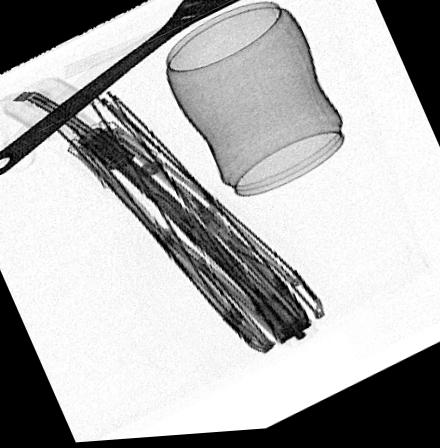Wrench: (0, 0, 248, 176)
